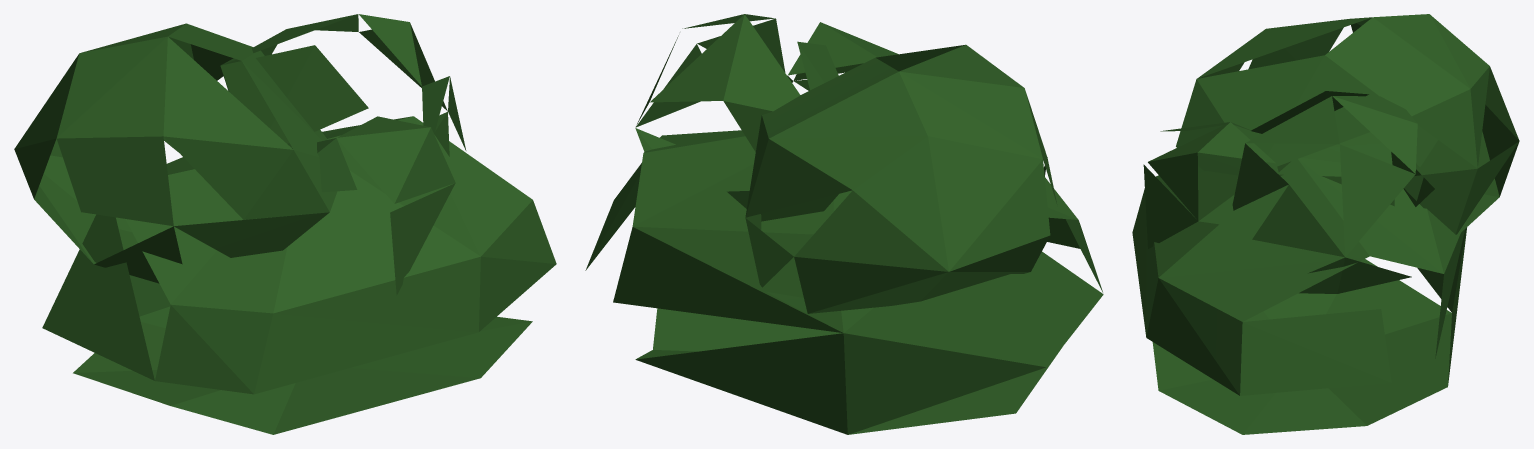
Rendered from Bush3_low.glb.
3 renders of one model, left to right at view 1: azimuth 30°, elevation 25°; view 2: azimuth 150°, elevation 25°; view 3: azimuth 270°, elevation 25°, orthographic. The views are drawn at different scales.
Parts seen in each view (by area): view 1: Bush_temp_climate_007; view 2: Bush_temp_climate_007; view 3: Bush_temp_climate_007.
Part boxes in pixels (x1,y1,x2,y2): Bush_temp_climate_007: [14, 14, 556, 434]; Bush_temp_climate_007: [585, 14, 1103, 434]; Bush_temp_climate_007: [1132, 14, 1519, 434].
Bounding box in the file's own units: 1.2 × 0.8158 × 0.9499.
